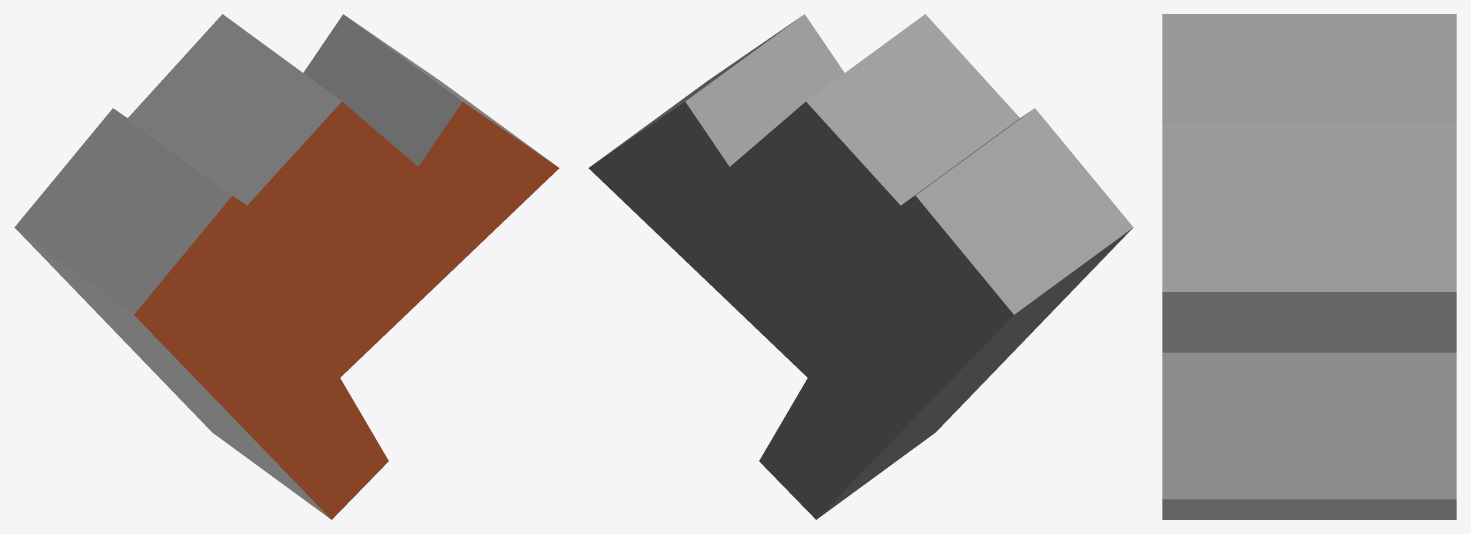
File: construction_4033_assumed_A_Casa_h6m.obj
3 renders of one model, left to right at view 1: azimuth 30°, elevation 25°; view 2: azimuth 150°, elevation 25°; view 3: azimuth 270°, elevation 25°, orthographic. The views are drawn at different scales.
Parts seen in each view (by area): view 1: construction_4033_assumed_A_Casa; view 2: construction_4033_assumed_A_Casa; view 3: construction_4033_assumed_A_Casa.
Boxes of the visible parts, bbox=[...] form: construction_4033_assumed_A_Casa: bbox=[14, 14, 559, 519]; construction_4033_assumed_A_Casa: bbox=[588, 14, 1133, 519]; construction_4033_assumed_A_Casa: bbox=[1162, 14, 1456, 519].
Size of the model in its own units: 12.34 by 11.52 by 6.
